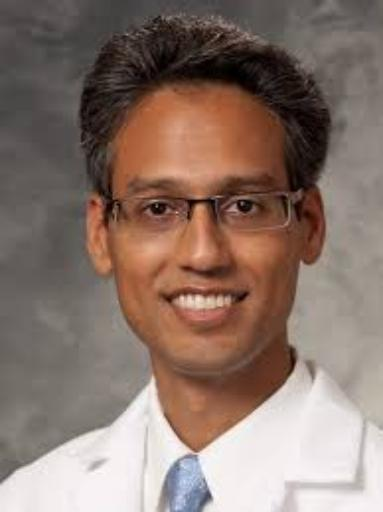left_eye: (225, 199, 269, 221)
left_lip_corner: (241, 287, 255, 304)
right_eye: (138, 200, 181, 223)
right_lip_corner: (156, 287, 172, 310)
